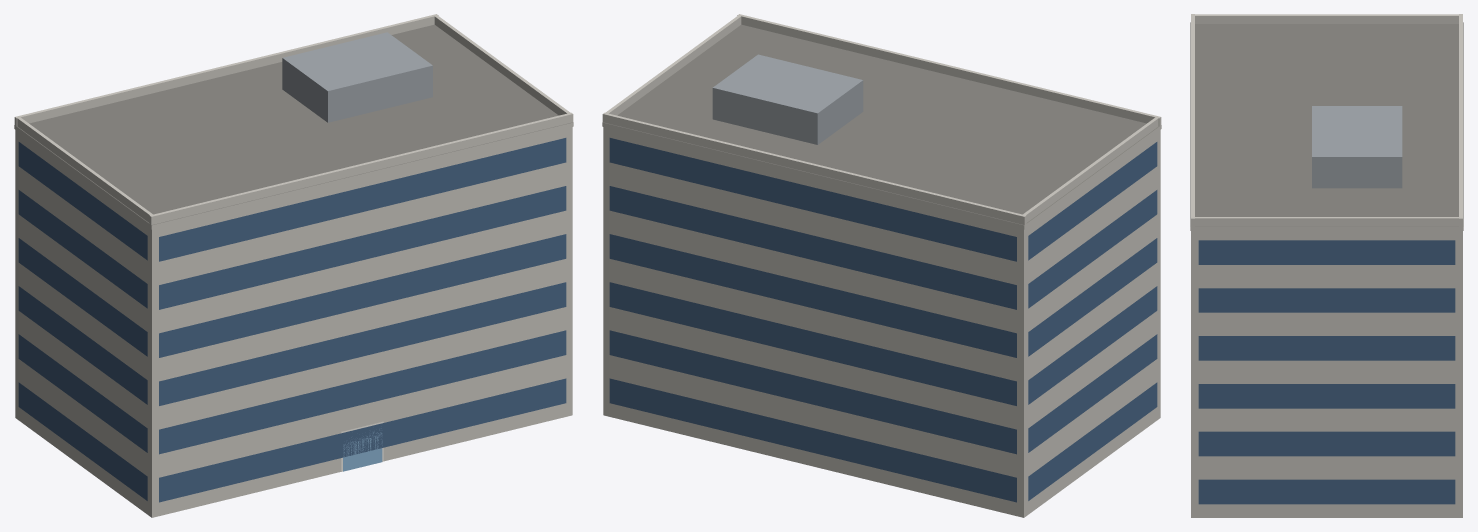
Rendered from immeuble_bureaux.glb.
3 views of the same model, side by side, from view 1: azimuth 30°, elevation 25°; view 2: azimuth 150°, elevation 25°; view 3: azimuth 270°, elevation 25° (orthographic).
Visible parts, largest first — view 1: immeuble_bureaux; view 2: immeuble_bureaux; view 3: immeuble_bureaux.
Part boxes in pixels (<box>): immeuble_bureaux: <box>14,14,573,517</box>; immeuble_bureaux: <box>602,14,1161,517</box>; immeuble_bureaux: <box>1190,14,1463,517</box>.
Bounding box in the file's own units: 32.1 × 23.6 × 18.1.
1 material, 1 textured.
